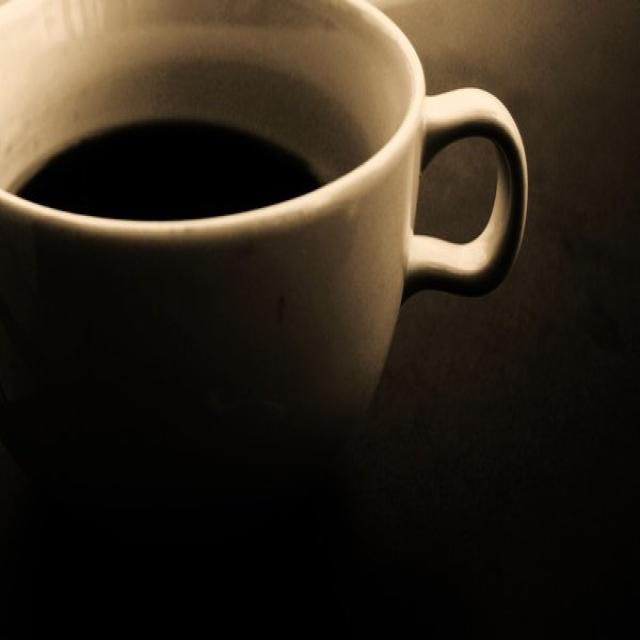Cup: (0, 0, 561, 526)
